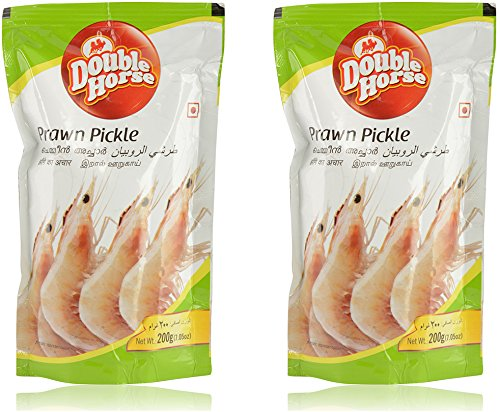nonveg_red: (186, 101, 200, 118), (458, 101, 471, 119)
